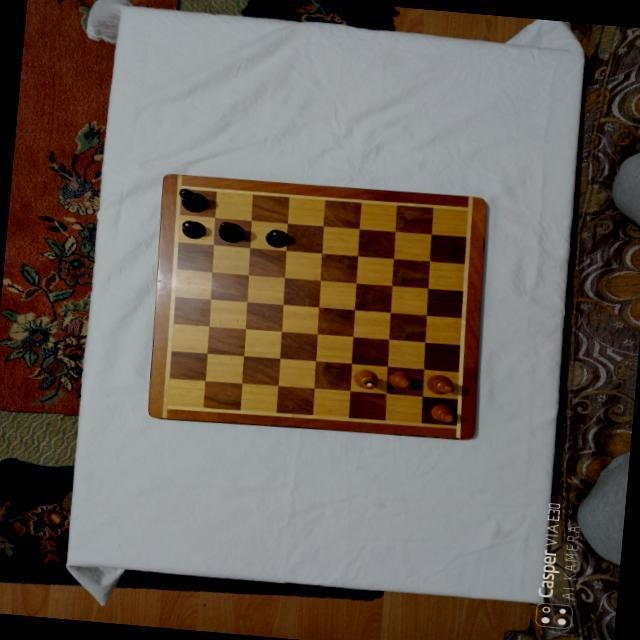black-bishop: (177, 186, 209, 213), (215, 219, 244, 243)
black-pawn: (264, 228, 292, 248), (179, 218, 206, 238)
white-bishop: (424, 373, 455, 395), (350, 367, 378, 389)
white-pawn: (428, 401, 458, 422), (385, 367, 413, 389)
